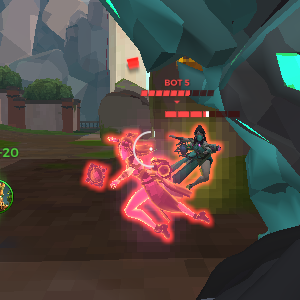model: (94, 129, 193, 248), (170, 118, 216, 187)
